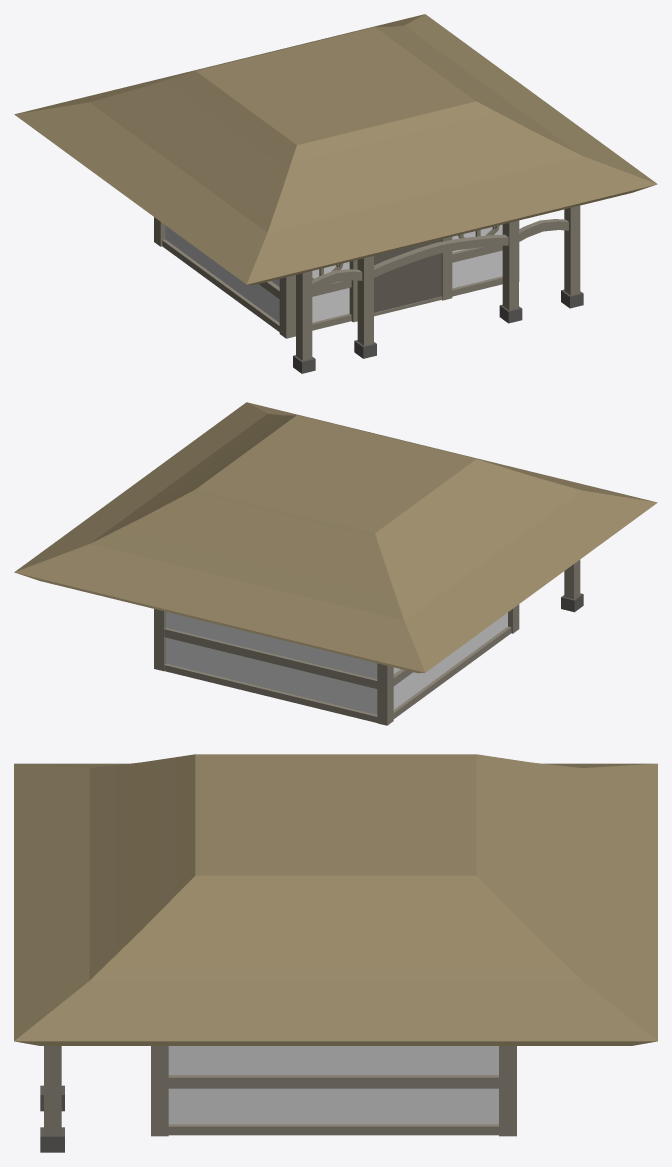
Rendered from House_3.fbx.
3 renders of one model, top to bottom at view 1: azimuth 30°, elevation 25°; view 2: azimuth 150°, elevation 25°; view 3: azimuth 270°, elevation 25°, orthographic. The views are drawn at different scales.
Visible parts, largest first — view 1: House_3; view 2: House_3; view 3: House_3.
Boxes of the visible parts, x1=… form: House_3: x1=14, y1=14, x2=657, y2=373; House_3: x1=14, y1=402, x2=657, y2=725; House_3: x1=14, y1=754, x2=657, y2=1152.
Size of the model in its own units: 509 by 207 by 498.
